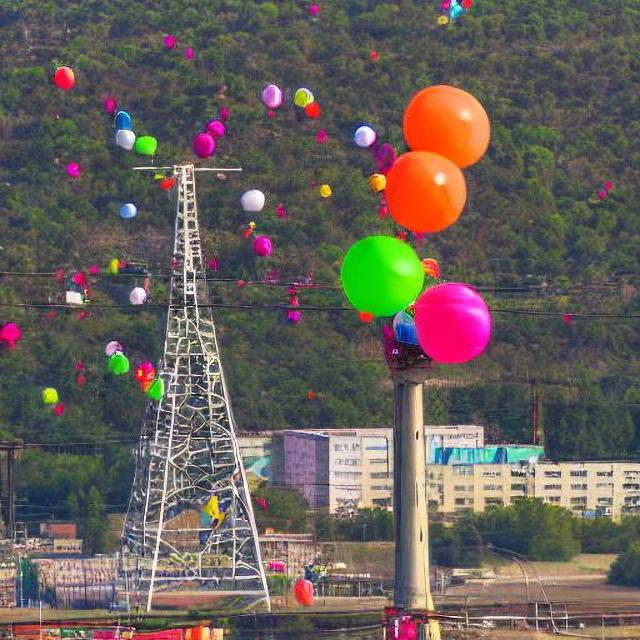balloon: (395, 74, 495, 184), (338, 234, 424, 326), (374, 146, 466, 231), (409, 282, 493, 364), (108, 98, 164, 161), (189, 111, 237, 161), (130, 346, 166, 402), (103, 334, 132, 382), (235, 181, 271, 219), (294, 78, 324, 123), (46, 56, 81, 94), (252, 81, 285, 121), (346, 116, 378, 154), (123, 275, 154, 312), (1, 313, 27, 357), (60, 152, 88, 184), (112, 196, 142, 225), (251, 231, 280, 260), (306, 126, 334, 148)
floating object: (290, 576, 316, 607)
